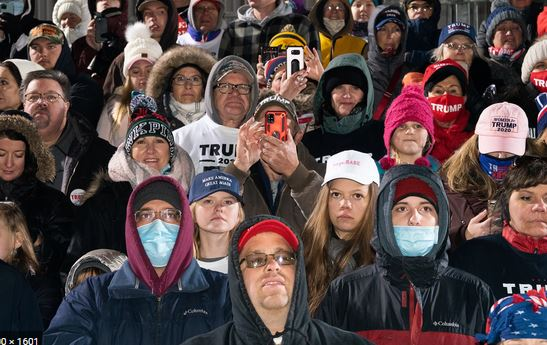with_incorrect_mask: (395, 194, 439, 254), (322, 1, 347, 37), (409, 1, 436, 33)
with_mask: (134, 200, 178, 268), (429, 73, 465, 123)
without_mask: (240, 232, 294, 302), (24, 77, 65, 139), (508, 174, 547, 238), (325, 178, 368, 232), (133, 134, 174, 176), (213, 73, 252, 117), (197, 190, 236, 234), (130, 49, 159, 102), (392, 113, 426, 158), (170, 64, 200, 108), (330, 75, 361, 116), (376, 15, 405, 58), (28, 37, 63, 72), (139, 1, 169, 38), (1, 134, 25, 180), (444, 31, 473, 68), (496, 17, 521, 56), (1, 63, 17, 111), (192, 1, 216, 33), (58, 7, 83, 35), (352, 1, 374, 27)
